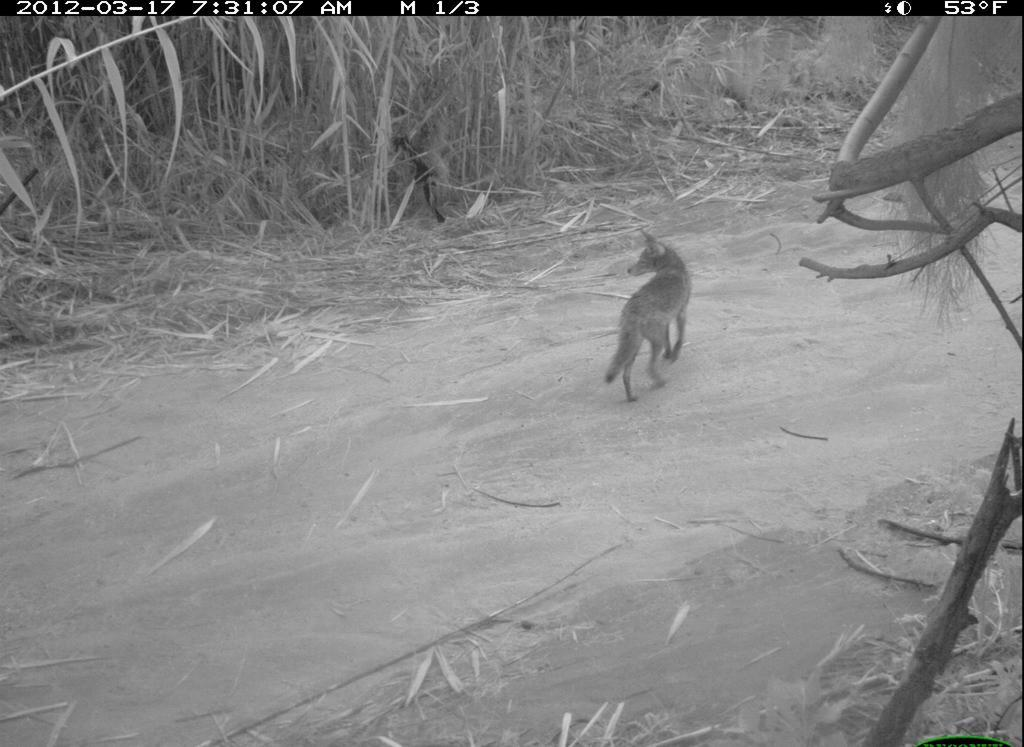coyote: (600, 228, 706, 409)
